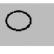no answer: (4, 8, 33, 32)
